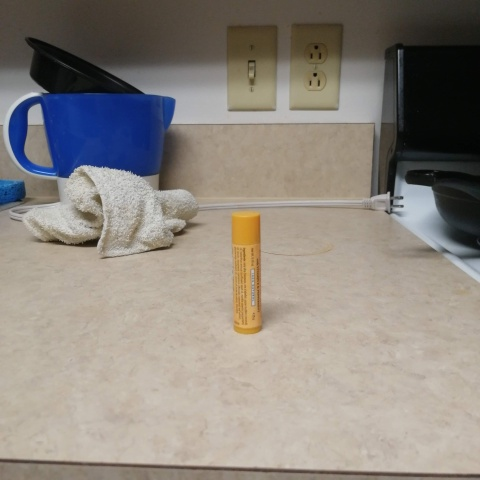chapstick: (231, 210, 264, 334)
